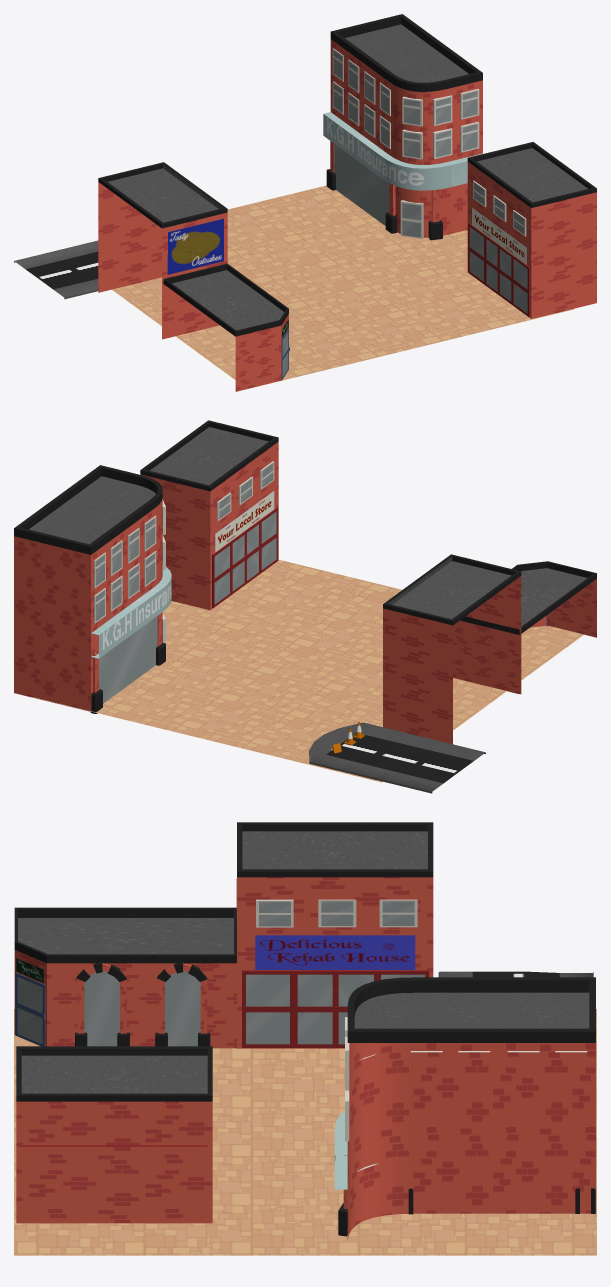
The model's file is Module 1.fbx.
3 renders of one model, top to bottom at view 1: azimuth 30°, elevation 25°; view 2: azimuth 150°, elevation 25°; view 3: azimuth 270°, elevation 25°, orthographic. The views are drawn at different scales.
Visible parts, largest first — view 1: First Module; view 2: First Module; view 3: First Module.
Part boxes in pixels (box(x1,y1,x2,y2)): First Module: box(14, 14, 596, 391); First Module: box(14, 420, 596, 793); First Module: box(14, 822, 596, 1255).
Bounding box in the file's own units: 1089 × 407 × 900.
